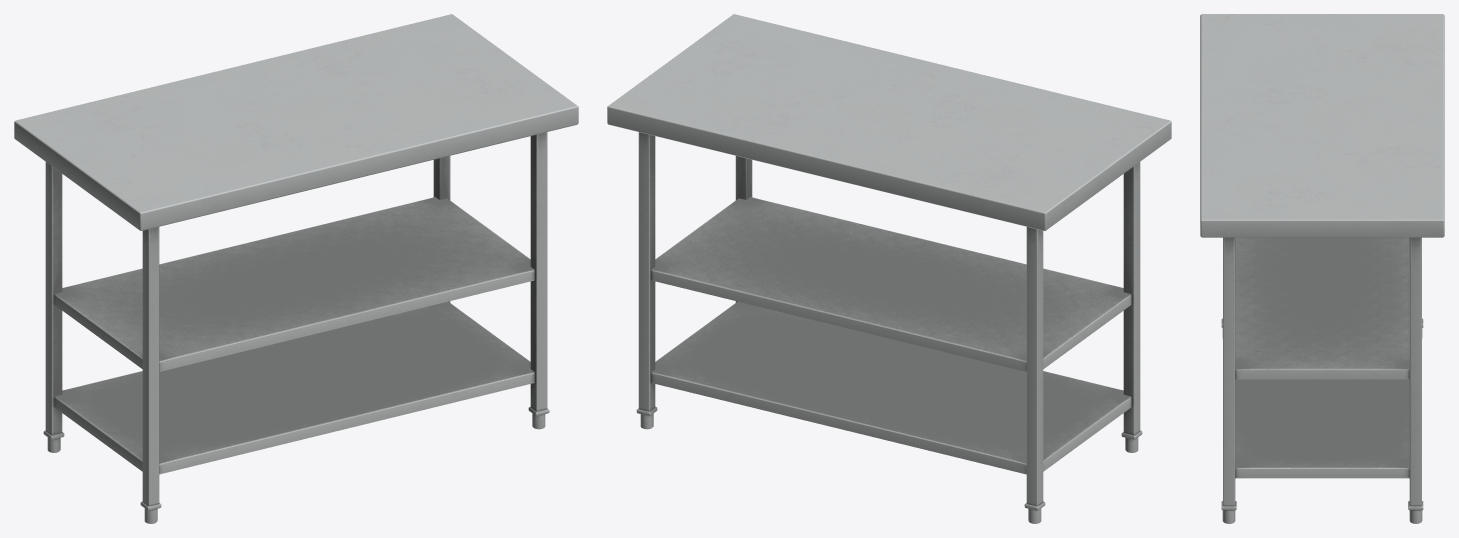
Rendered from KitchenTable_01 1.FBX.
The picture shows the model from 3 angles, left to right: view 1: azimuth 30°, elevation 25°; view 2: azimuth 150°, elevation 25°; view 3: azimuth 270°, elevation 25°; orthographic projection. The views are drawn at different scales.
Visible parts, largest first — view 1: KitchenTable_01; view 2: KitchenTable_01; view 3: KitchenTable_01.
Boxes of the visible parts, x1,y1,x2,y2 form: KitchenTable_01: (14, 14, 578, 523); KitchenTable_01: (607, 14, 1171, 523); KitchenTable_01: (1200, 14, 1444, 523).
Size of the model in its own units: 120 by 85 by 60.
1 material, 1 textured.
